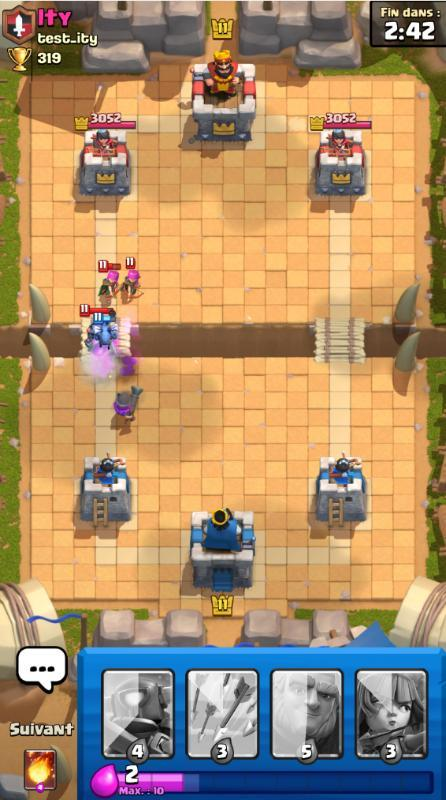archere: (120, 257, 144, 303), (97, 260, 122, 304)
gargouille: (92, 312, 118, 349)
mini_PEKKA: (80, 304, 114, 352)
mousquetaire: (113, 386, 144, 424)
